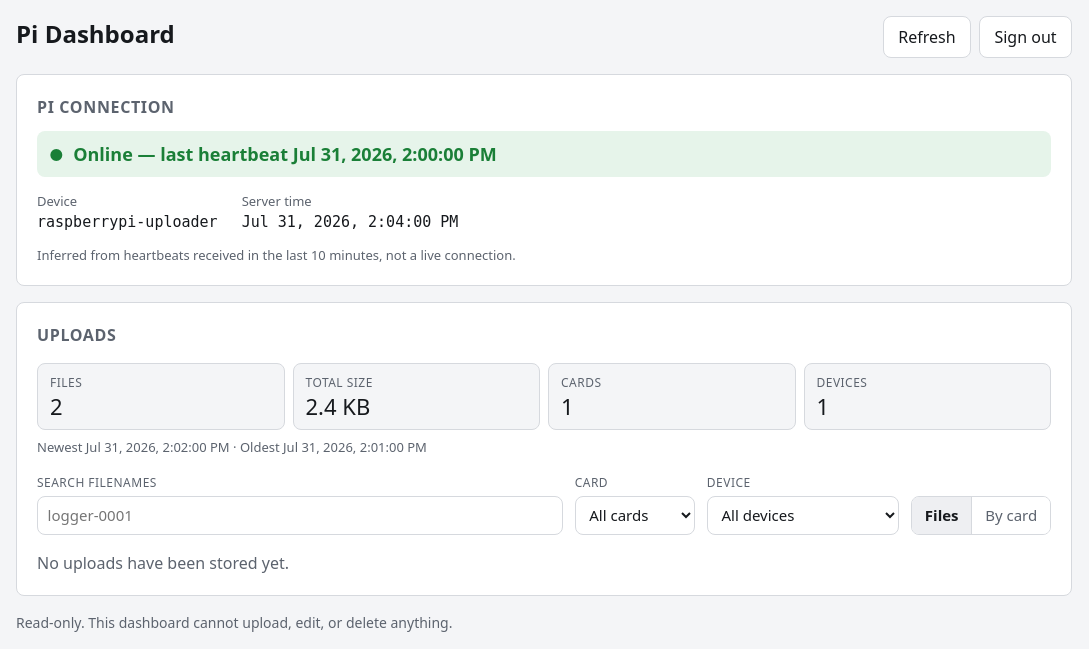
filtering › says a filter matched nothing rather than that nothing is stored
Expected: the text "No uploads have been stored yet." is shown, [37,552,289,574]
Type "nope" into the search field labelled "Search filenames" at (300, 515), box [37,496,563,535]
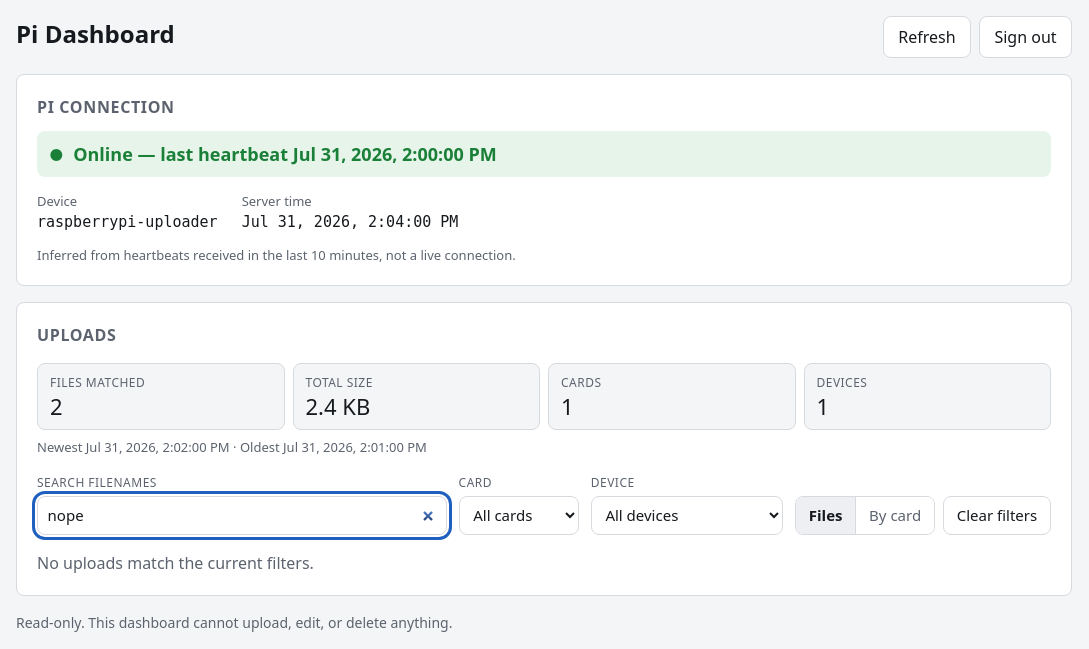
Result: the text "No uploads match the current filters." is shown at [37,552,314,574]
